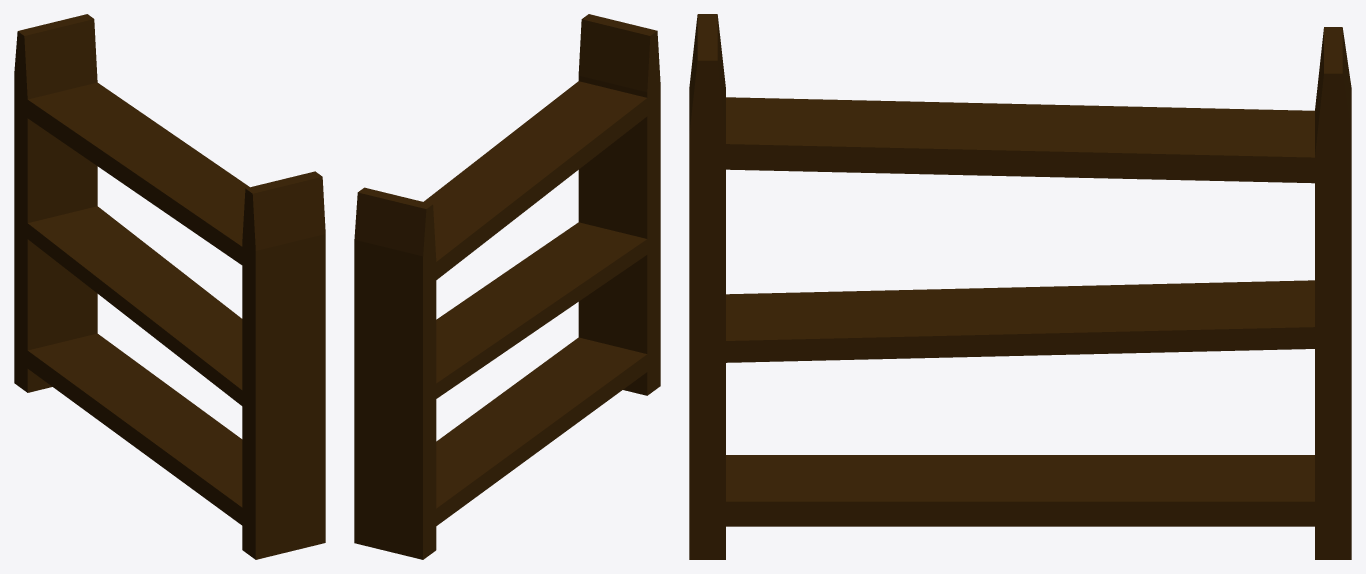
Rendered from BookShelf.fbx.
The picture shows the model from 3 angles, left to right: view 1: azimuth 30°, elevation 25°; view 2: azimuth 150°, elevation 25°; view 3: azimuth 270°, elevation 25°; orthographic projection. The views are drawn at different scales.
Parts seen in each view (by area): view 1: BookShelf; view 2: BookShelf; view 3: BookShelf.
Boxes of the visible parts, x1=… form: BookShelf: x1=14, y1=14, x2=325, y2=559; BookShelf: x1=354, y1=14, x2=660, y2=559; BookShelf: x1=689, y1=14, x2=1351, y2=559.
Bounding box in the file's own units: 1718 × 1428 × 287.
